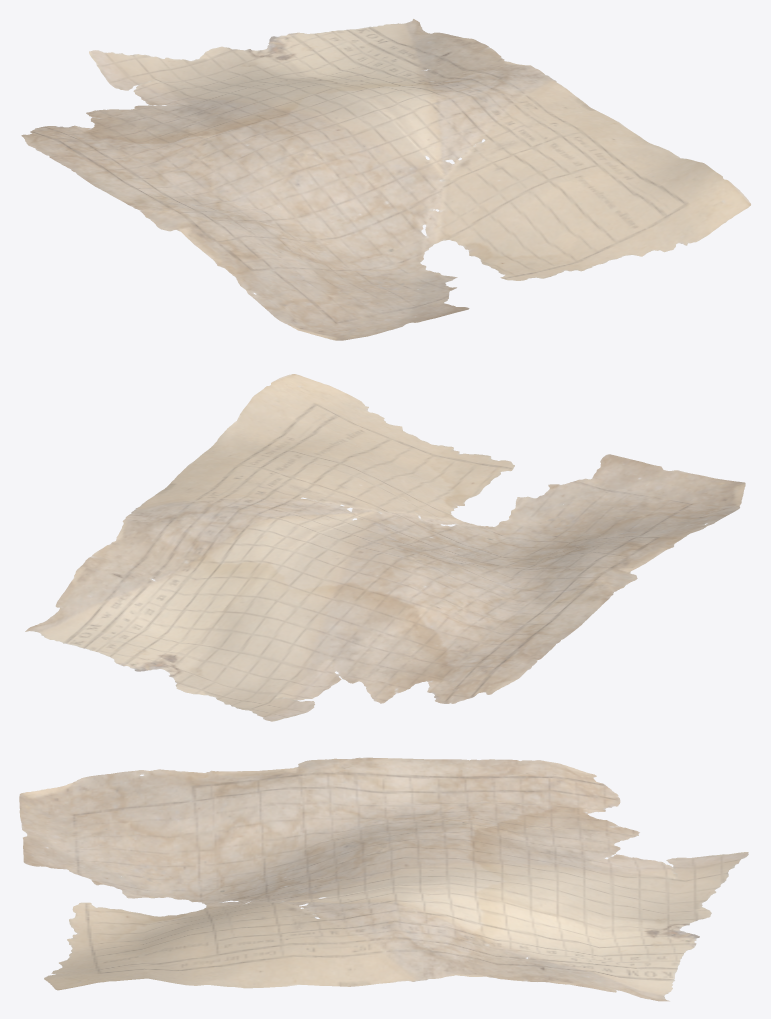
Rendered from SM_Paper_015.fbx.
The picture shows the model from 3 angles, top to bottom: view 1: azimuth 30°, elevation 25°; view 2: azimuth 150°, elevation 25°; view 3: azimuth 270°, elevation 25°; orthographic projection.
Visible parts, largest first — view 1: SM_Paper_015; view 2: SM_Paper_015; view 3: SM_Paper_015.
Boxes of the visible parts, left/top/right/bottom form: SM_Paper_015: left=21, top=19, right=750, bottom=340; SM_Paper_015: left=25, top=374, right=745, bottom=721; SM_Paper_015: left=19, top=757, right=748, bottom=1001.
Bounding box in the file's own units: 41.55 × 54.74 × 4.68.
1 material, 1 textured.
